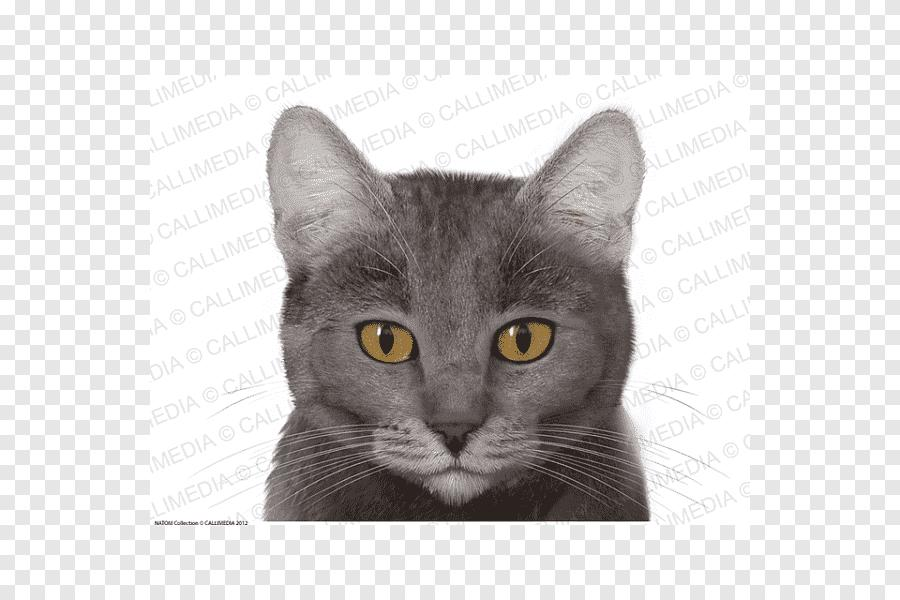rblue: (261, 98, 653, 515)
